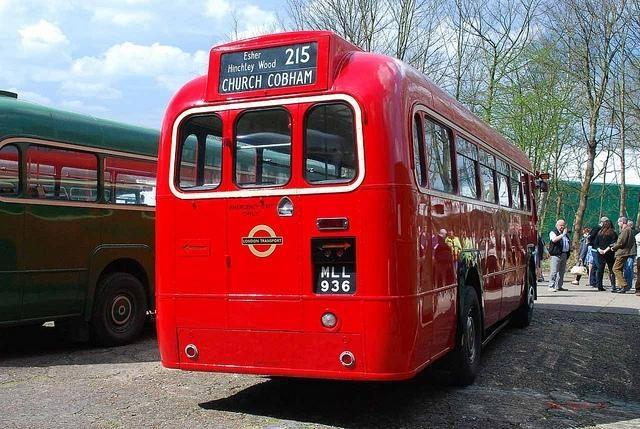bus: (152, 32, 554, 386), (1, 90, 160, 348)
